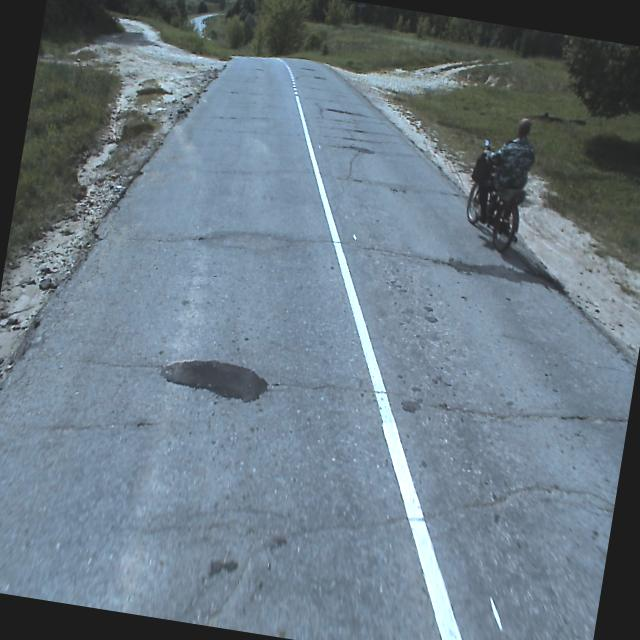road: (0, 55, 636, 640)
